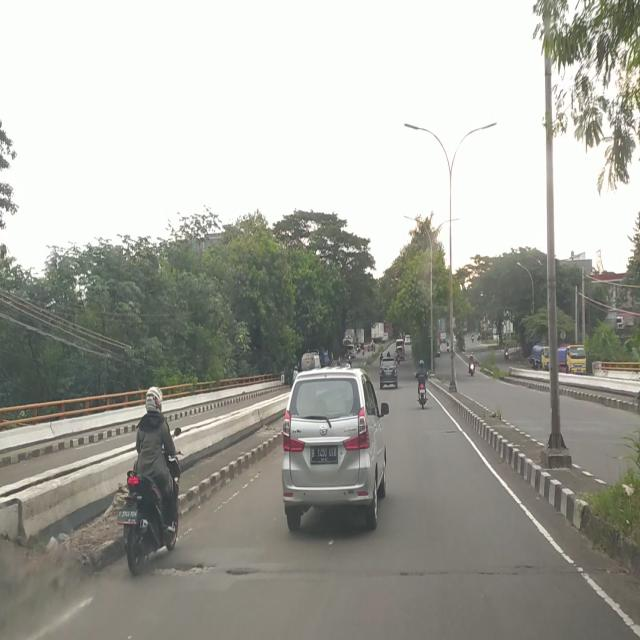Sewer Cover: (156, 558, 577, 578)
